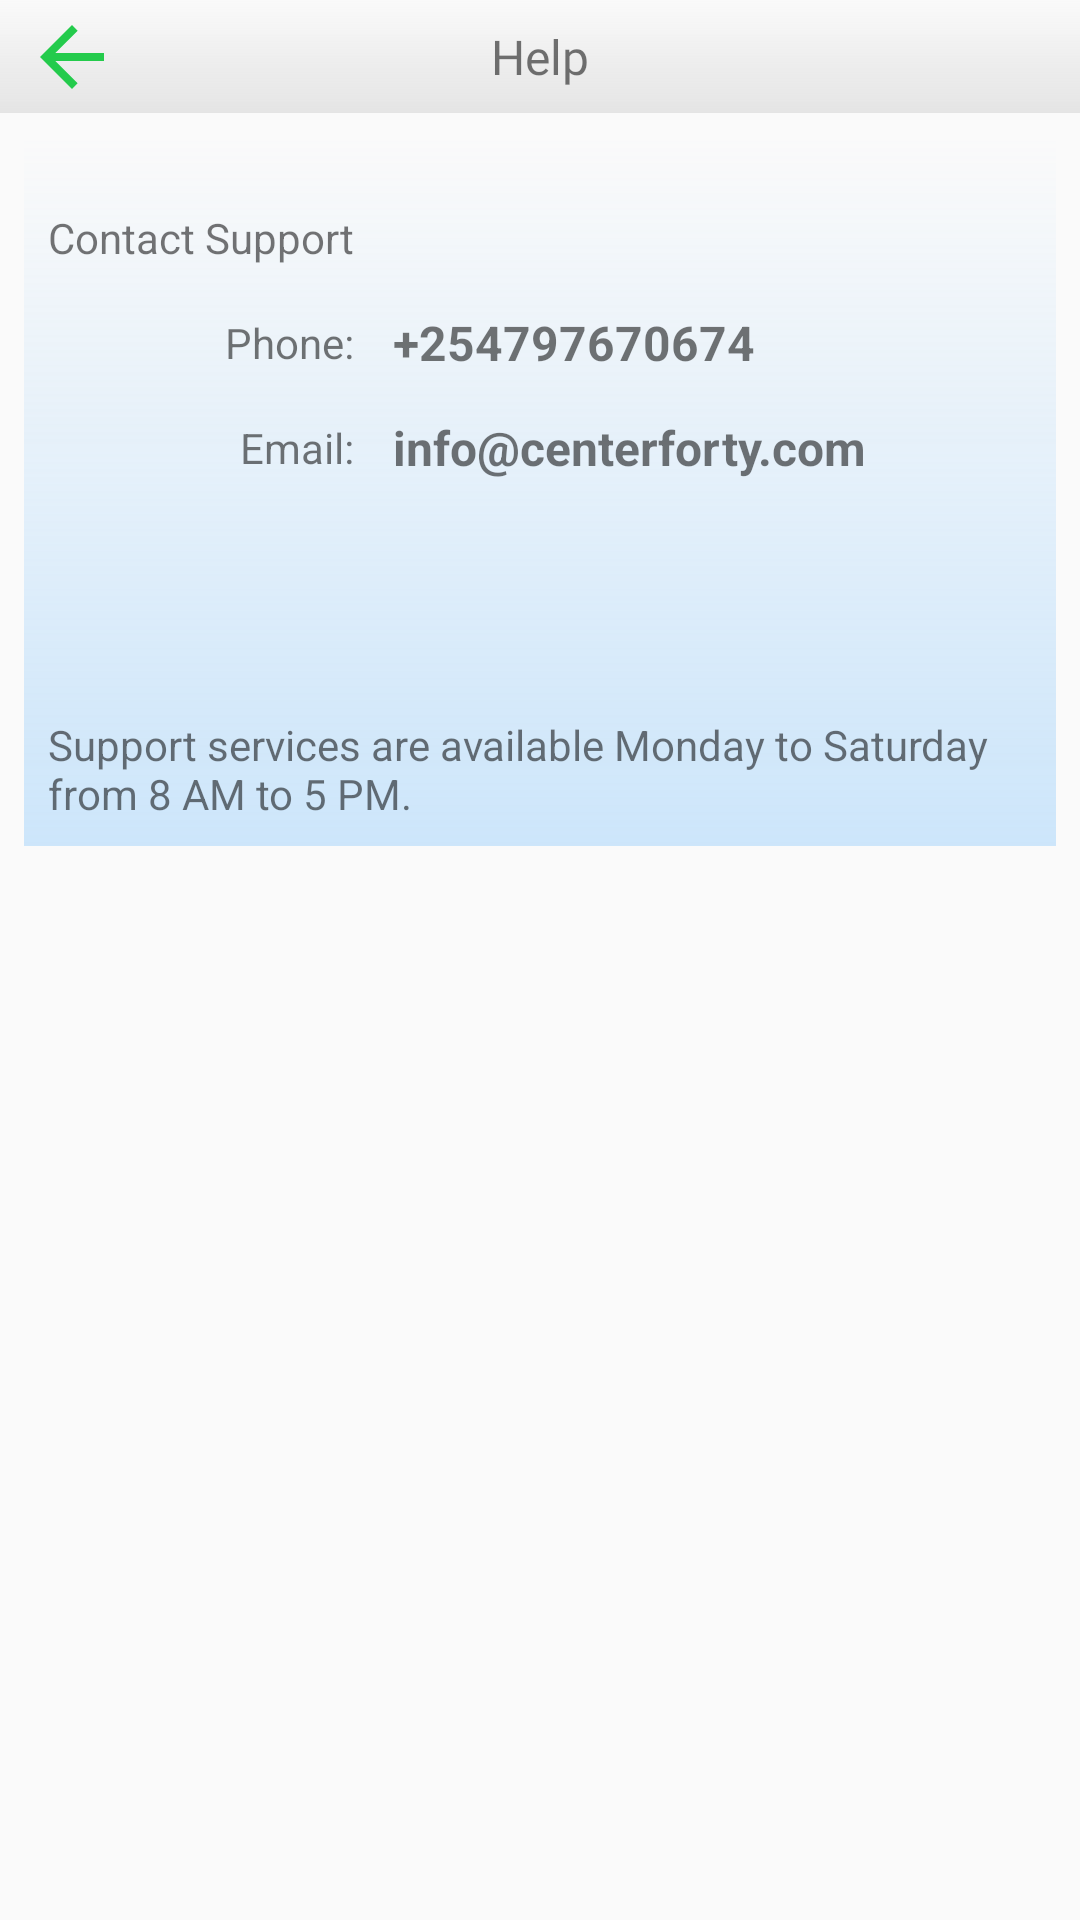

Point at icon controls on the screen. Image size 1080px x 1920px, points as point (x, y).
arrow back: point (60, 69)
